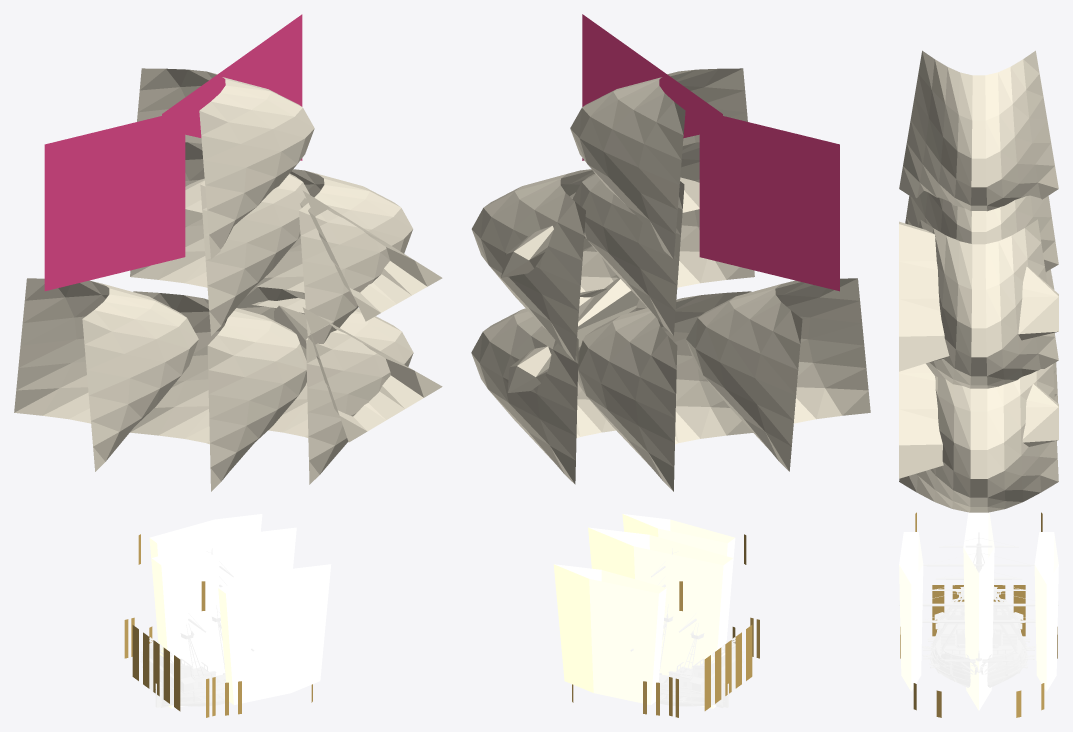
The model's file is navire-galion-leger.glb.
3 renders of one model, left to right at view 1: azimuth 30°, elevation 25°; view 2: azimuth 150°, elevation 25°; view 3: azimuth 270°, elevation 25°, orthographic.
Parts seen in each view (by area): view 1: navire_lumieres.003, voile_artimon.007, drapeau.008, voile_grande.008, voile_perroquet.008, voile_misaine_hune.007, voile_misaine.008, voile_hune.008, flamme.008, voile_foc2.007, voile_foc.008, navire_corps.008 (+1 smaller); view 2: navire_lumieres.003, voile_artimon.007, drapeau.008, voile_grande.008, voile_perroquet.008, voile_misaine_hune.007, voile_hune.008, voile_misaine.008, flamme.008, voile_foc2.007, navire_corps.008, navire_vitres.003 (+1 smaller); view 3: voile_perroquet.008, voile_misaine_hune.007, voile_misaine.008, navire_lumieres.003, voile_foc.008, navire_corps.008, voile_foc2.007, voile_hune.008, navire_vitres.003.
Boxes of the visible parts, bbox=[...] form: navire_lumieres.003: bbox=[149, 514, 331, 708]; voile_artimon.007: bbox=[14, 278, 198, 471]; drapeau.008: bbox=[44, 110, 185, 291]; voile_grande.008: bbox=[130, 291, 306, 491]; voile_perroquet.008: bbox=[137, 68, 314, 259]; voile_misaine_hune.007: bbox=[252, 169, 412, 361]; voile_misaine.008: bbox=[236, 286, 413, 484]; voile_hune.008: bbox=[130, 142, 309, 335]; flamme.008: bbox=[162, 14, 302, 160]; voile_foc2.007: bbox=[274, 305, 442, 442]; voile_foc.008: bbox=[300, 190, 442, 321]; navire_corps.008: bbox=[140, 548, 254, 707]; navire_lumieres.003: bbox=[553, 514, 735, 708]; voile_artimon.007: bbox=[686, 278, 870, 471]; drapeau.008: bbox=[699, 110, 839, 291]; voile_grande.008: bbox=[578, 291, 752, 491]; voile_perroquet.008: bbox=[570, 68, 747, 259]; voile_misaine_hune.007: bbox=[471, 169, 618, 360]; voile_hune.008: bbox=[572, 142, 754, 335]; voile_misaine.008: bbox=[471, 288, 647, 484]; flamme.008: bbox=[582, 14, 722, 160]; voile_foc2.007: bbox=[507, 277, 639, 392]; navire_corps.008: bbox=[630, 548, 744, 707]; navire_vitres.003: bbox=[572, 534, 759, 717]; voile_perroquet.008: bbox=[899, 50, 1058, 211]; voile_misaine_hune.007: bbox=[919, 219, 1058, 388]; voile_misaine.008: bbox=[899, 364, 1058, 512]; navire_lumieres.003: bbox=[899, 512, 1058, 710]; voile_foc.008: bbox=[899, 221, 1058, 371]; navire_corps.008: bbox=[899, 532, 1058, 687]; voile_foc2.007: bbox=[899, 363, 1058, 478]; voile_hune.008: bbox=[905, 191, 1058, 271]; navire_vitres.003: bbox=[900, 512, 1057, 717].
Bounding box in the file's own units: 5.19 × 8.97 × 2.
